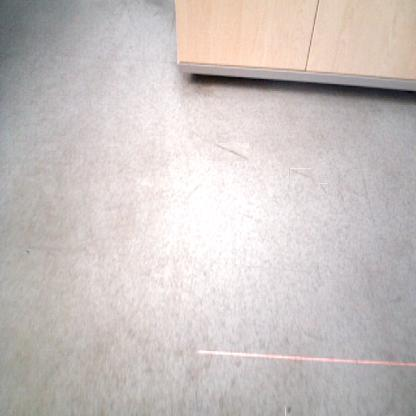mark: (212, 143, 249, 161), (185, 182, 202, 198), (289, 168, 311, 179), (320, 184, 329, 194), (285, 406, 292, 416), (22, 248, 30, 256)
